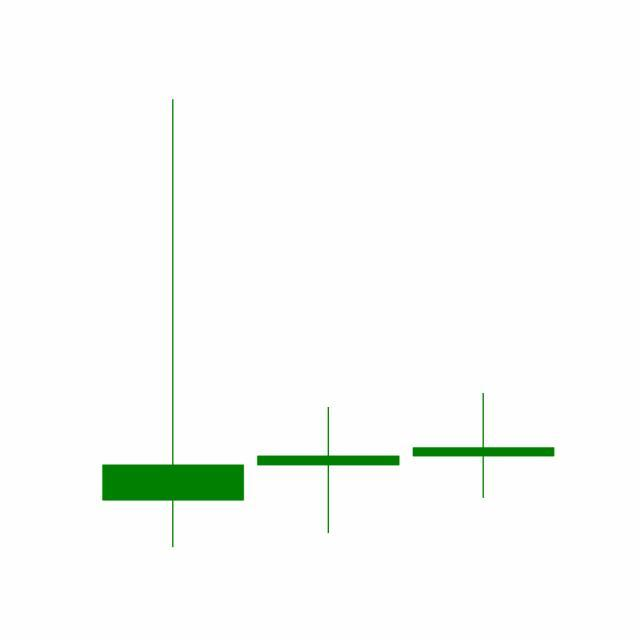Spinning Top: (406, 392, 562, 500)
